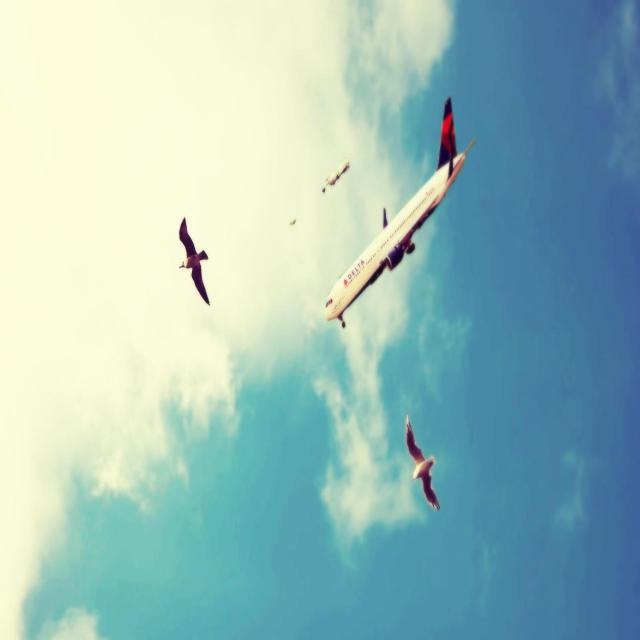airplane: (324, 95, 476, 328), (321, 158, 350, 193)
